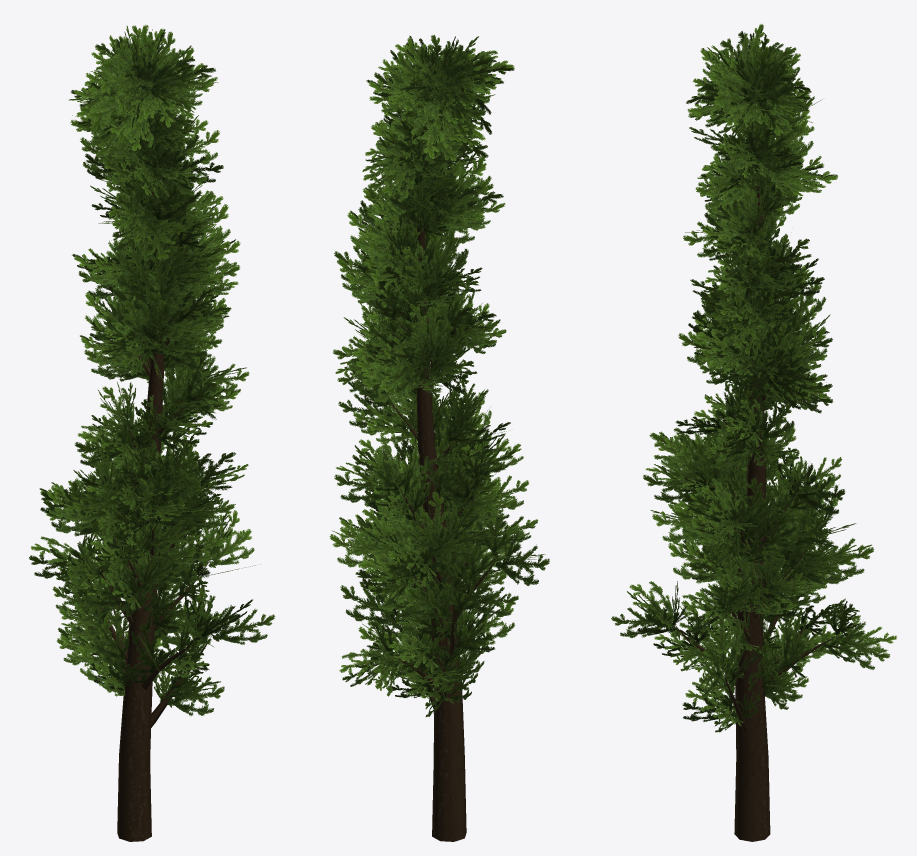
File: cypress.glb
3 views of the same model, side by side, from view 1: azimuth 30°, elevation 25°; view 2: azimuth 150°, elevation 25°; view 3: azimuth 270°, elevation 25° (orthographic).
Visible parts, largest first — view 1: leaves, bark; view 2: leaves, bark; view 3: leaves, bark.
Part boxes in pixels (box(x1,y1,x2,y2)): leaves: box(29, 24, 275, 716); bark: box(81, 143, 211, 841); leaves: box(329, 34, 549, 716); bark: box(388, 167, 495, 841); leaves: box(611, 23, 897, 732); bark: box(675, 183, 838, 841).
Size of what is drawn, in the model's own units: 2.81 by 9 by 3.
2 materials, 2 textured.
